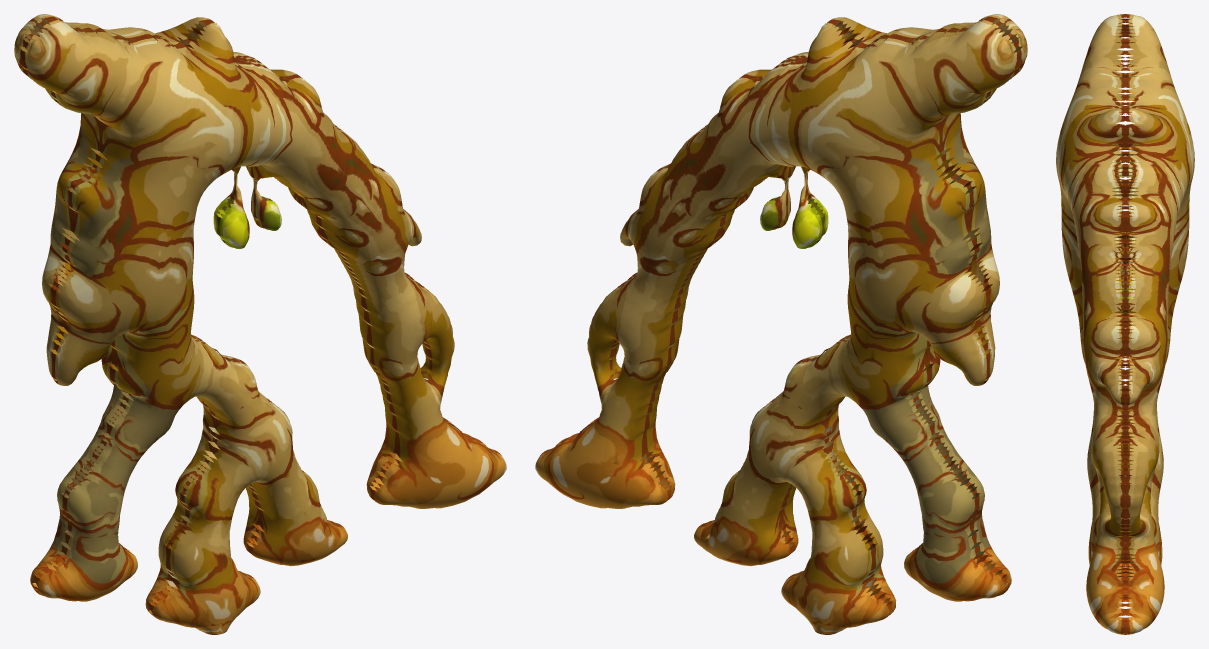
File: root_arch.glb
3 views of the same model, side by side, from view 1: azimuth 30°, elevation 25°; view 2: azimuth 150°, elevation 25°; view 3: azimuth 270°, elevation 25° (orthographic). The views are drawn at different scales.
Parts seen in each view (by area): view 1: root_arch; view 2: root_arch; view 3: root_arch.
Boxes of the visible parts, left/top/right/bottom form: root_arch: left=14, top=14, right=506, bottom=634; root_arch: left=535, top=14, right=1027, bottom=634; root_arch: left=1056, top=14, right=1194, bottom=634.
Size of the model in its own units: 0.9855 by 1.25 by 0.3104.
1 material, 1 textured.
